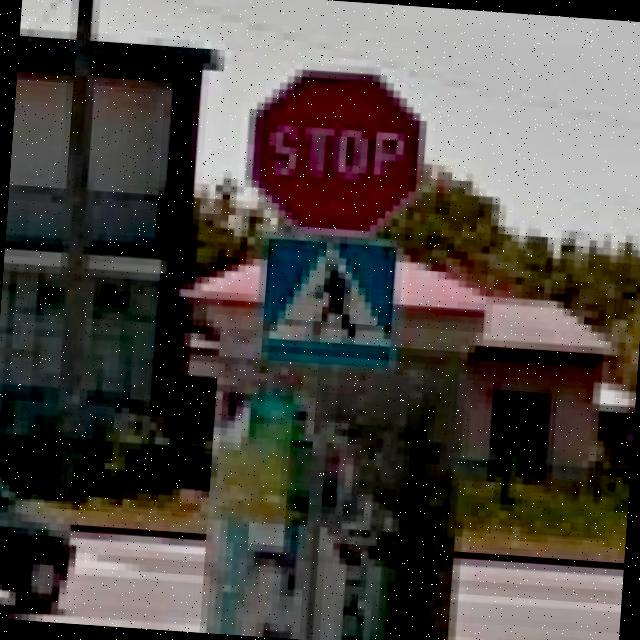Przejscie dla pieszych: (253, 238, 403, 368)
Stop: (238, 58, 434, 241)
